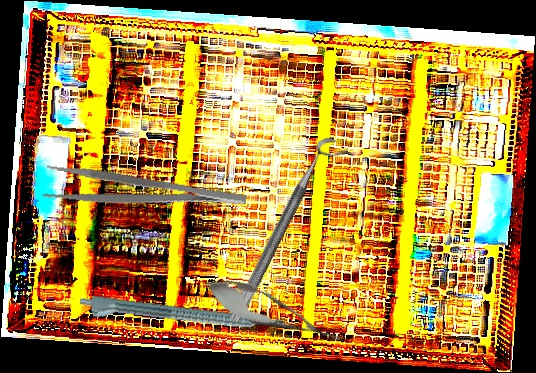Dressing Forceps: (42, 162, 248, 226)
Fixation Ring: (228, 133, 350, 331)
Handpiece: (78, 293, 281, 342)
Micro Scissor: (197, 267, 348, 358)
